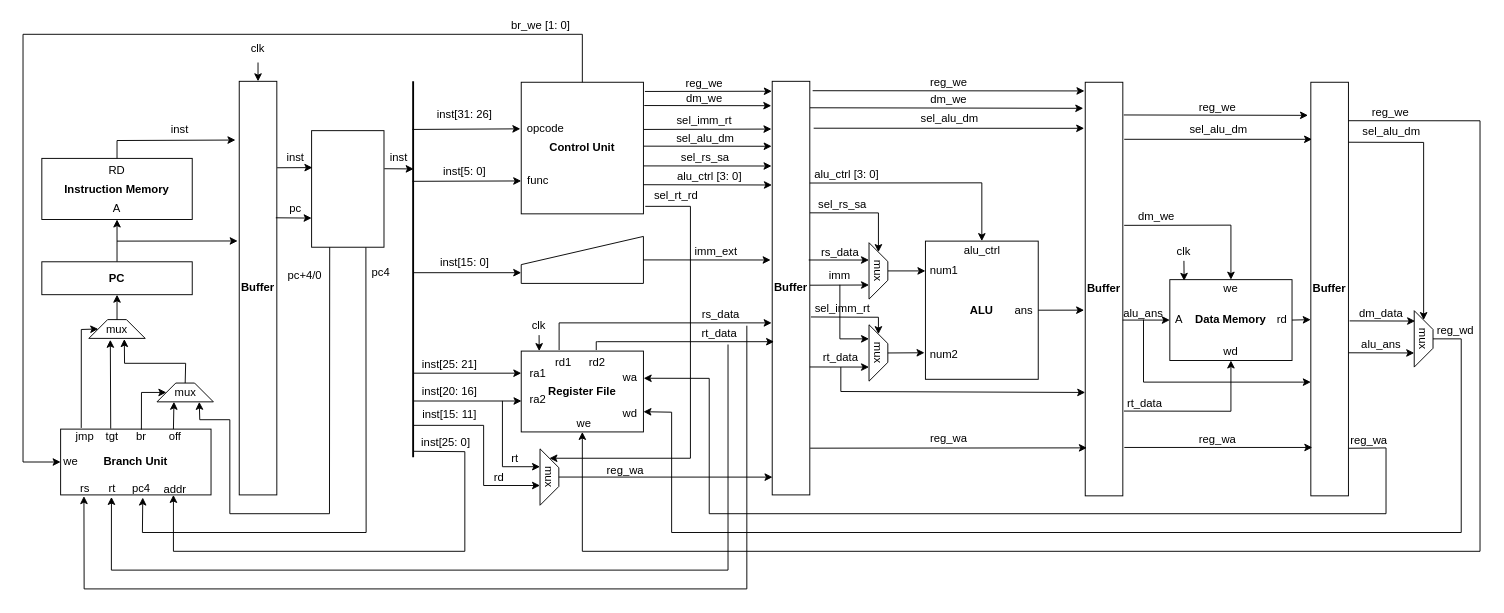
This 1504x613 diagram has some shape labels left out. The centre of each missing label's shape, as x and y in pixels:
Correlation Test: the point at 347,188
Sign Extend: the point at 581,259
